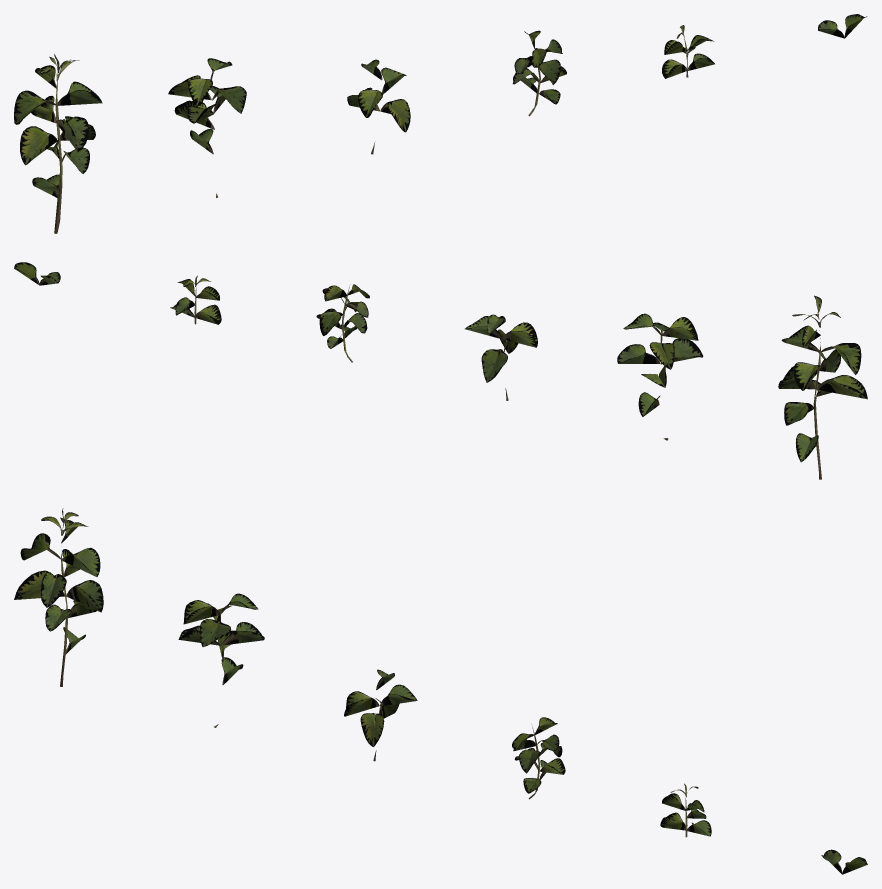
File: nettle_plant_lo.glb
3 views of the same model, one above another, from view 1: azimuth 30°, elevation 25°; view 2: azimuth 150°, elevation 25°; view 3: azimuth 330°, elevation 25° (orthographic).
Visible parts, largest first — view 1: nettle_plant_tall_a_LOD0, nettle_plant_tall_b_LOD0, nettle_plant_medium_b_LOD0, nettle_plant_medium_a_LOD0, nettle_plant_small_a_LOD0, nettle_plant_small_b_LOD0; view 2: nettle_plant_tall_a_LOD0, nettle_plant_tall_b_LOD0, nettle_plant_medium_a_LOD0, nettle_plant_medium_b_LOD0, nettle_plant_small_a_LOD0, nettle_plant_small_b_LOD0; view 3: nettle_plant_tall_a_LOD0, nettle_plant_tall_b_LOD0, nettle_plant_medium_a_LOD0, nettle_plant_medium_b_LOD0, nettle_plant_small_a_LOD0.
Part boxes in pixels (x1=…): nettle_plant_tall_a_LOD0: x1=14, y1=54, x2=102, y2=233; nettle_plant_tall_b_LOD0: x1=168, y1=58, x2=246, y2=197; nettle_plant_medium_b_LOD0: x1=512, y1=30, x2=566, y2=116; nettle_plant_medium_a_LOD0: x1=347, y1=59, x2=410, y2=154; nettle_plant_small_a_LOD0: x1=662, y1=25, x2=714, y2=78; nettle_plant_small_b_LOD0: x1=818, y1=14, x2=867, y2=38; nettle_plant_tall_a_LOD0: x1=778, y1=295, x2=867, y2=479; nettle_plant_tall_b_LOD0: x1=617, y1=313, x2=703, y2=440; nettle_plant_medium_a_LOD0: x1=465, y1=314, x2=537, y2=400; nettle_plant_medium_b_LOD0: x1=316, y1=284, x2=369, y2=362; nettle_plant_small_a_LOD0: x1=170, y1=275, x2=221, y2=324; nettle_plant_small_b_LOD0: x1=14, y1=262, x2=60, y2=285; nettle_plant_tall_a_LOD0: x1=14, y1=508, x2=103, y2=686; nettle_plant_tall_b_LOD0: x1=178, y1=593, x2=264, y2=727; nettle_plant_medium_a_LOD0: x1=344, y1=669, x2=417, y2=761; nettle_plant_medium_b_LOD0: x1=512, y1=717, x2=565, y2=799; nettle_plant_small_a_LOD0: x1=660, y1=783, x2=711, y2=837.
Size of the model in its own units: 1.08 by 0.2184 by 0.0947.
1 material, 1 textured.
